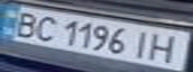1: (54, 17, 81, 47), (72, 20, 96, 50)
6: (106, 25, 133, 56)
9: (90, 23, 112, 53)
B: (6, 9, 42, 38)
C: (30, 14, 60, 43)
H: (145, 30, 187, 65)
I: (127, 28, 157, 61)
